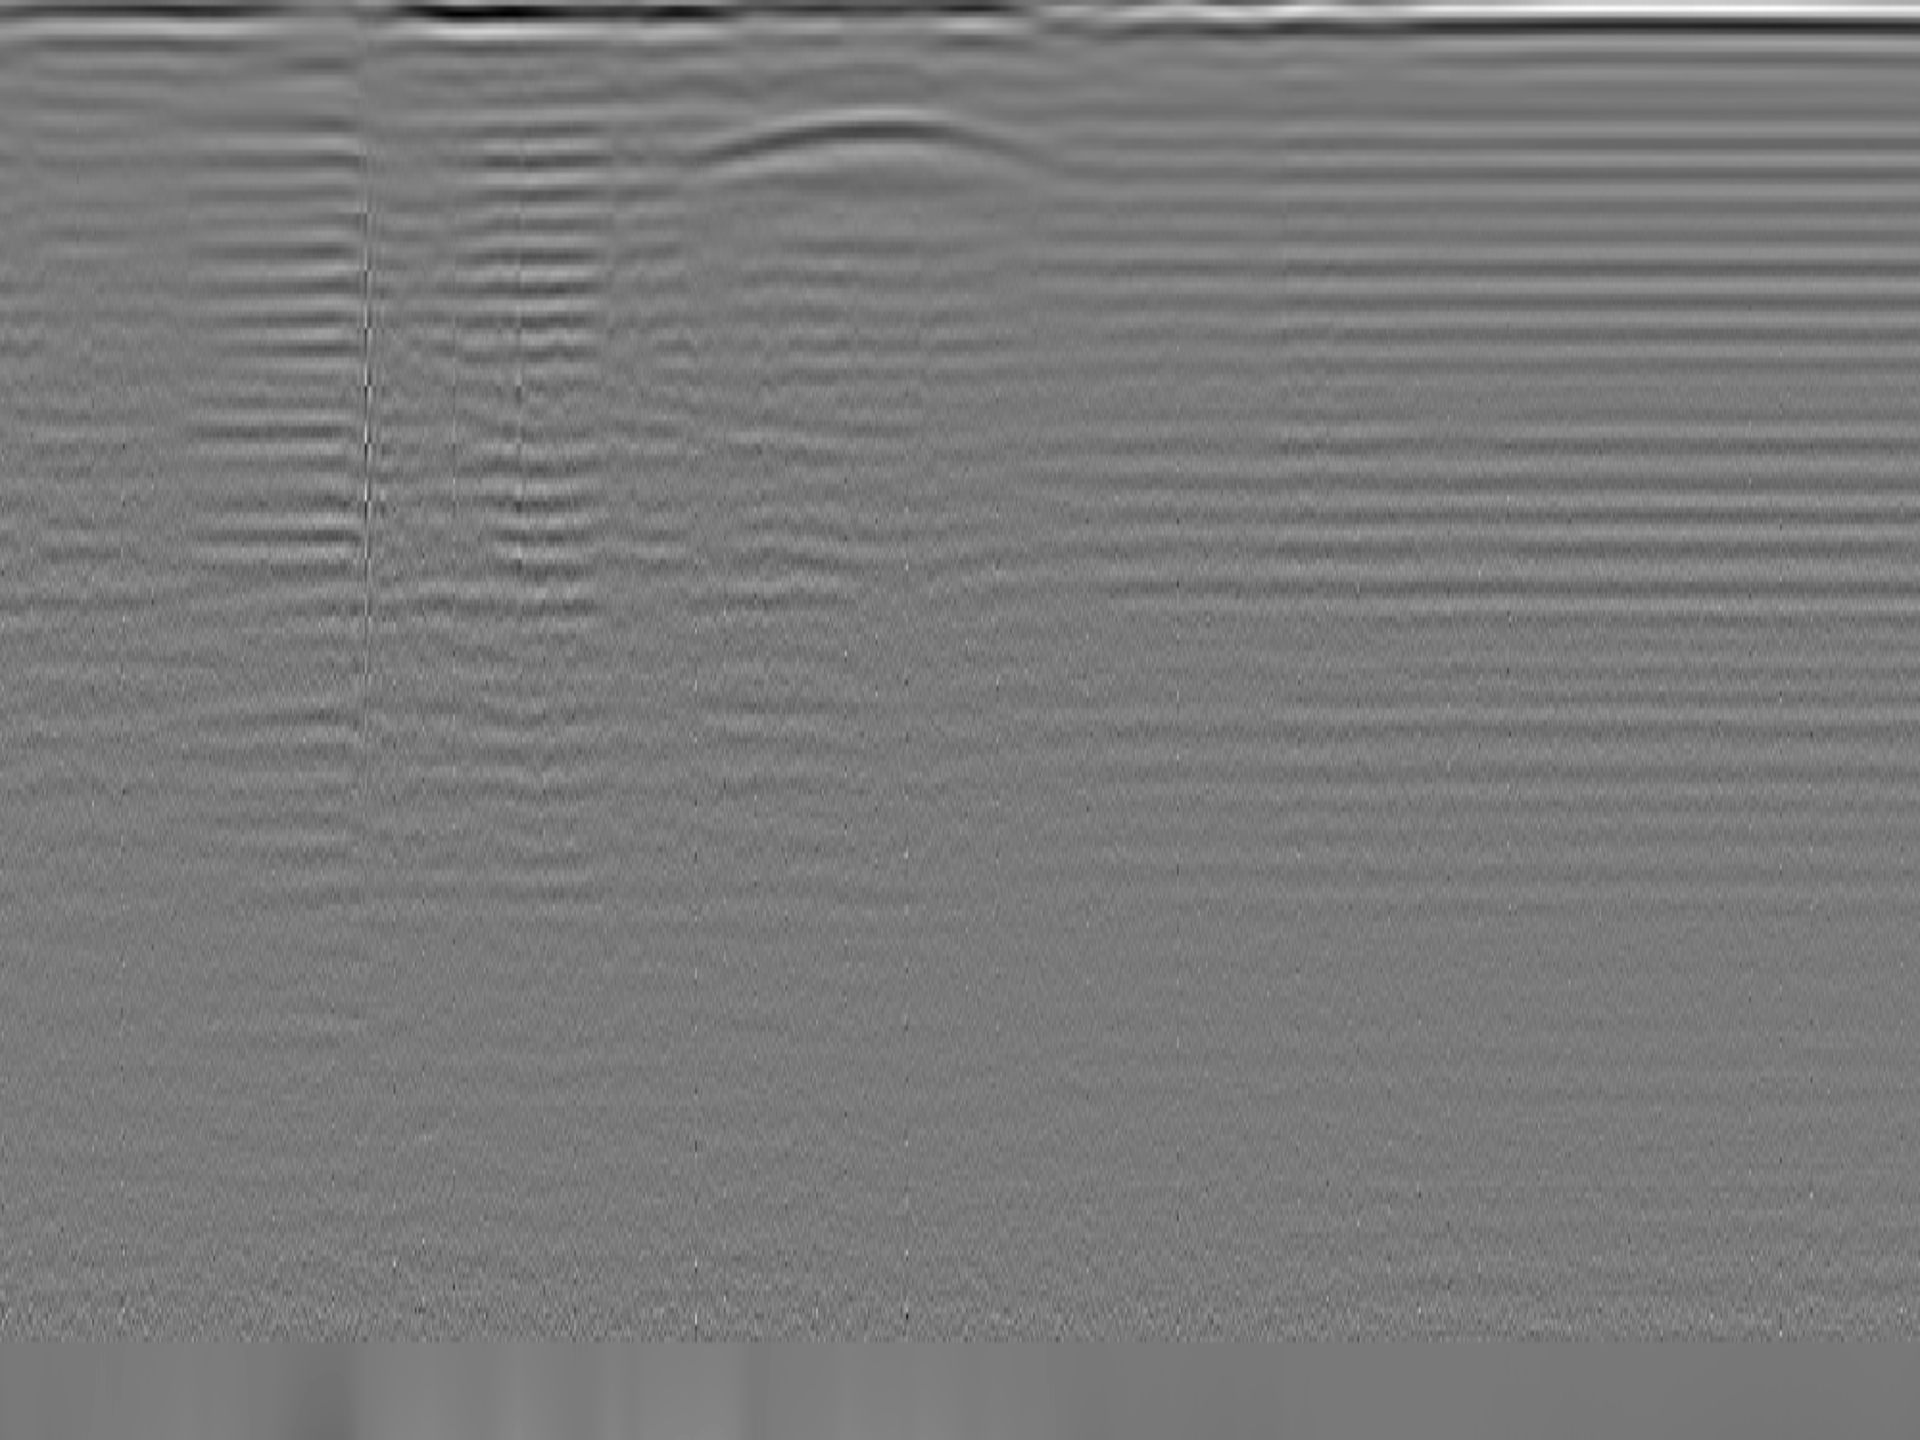Tunnel: (682, 109, 1061, 166)
